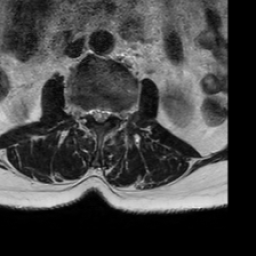CCS_stenosis: (96, 99, 103, 132)
LFS_stenosis: (111, 100, 119, 124)
LLS_stenosis: (103, 99, 111, 127)
RFS_stenosis: (81, 99, 89, 125)
RLS_stenosis: (89, 99, 96, 125)
